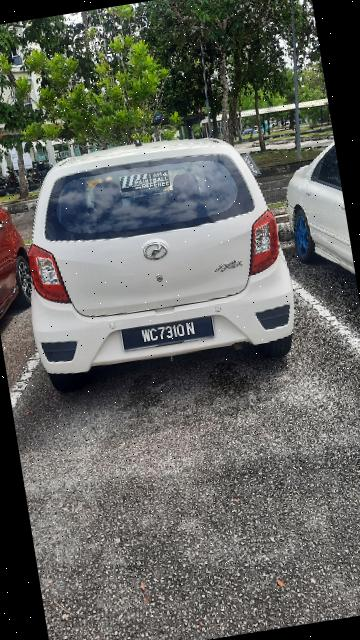License_Plate: (119, 311, 221, 355)
car: (3, 118, 308, 404)
